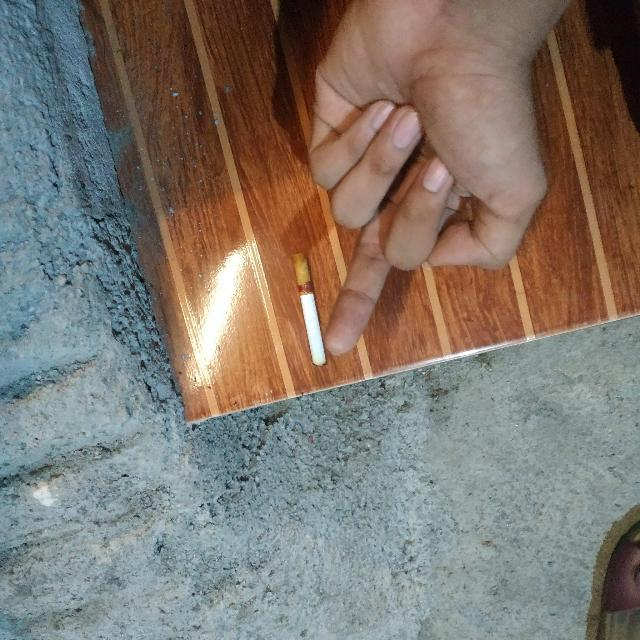rokok: (292, 252, 332, 368)
